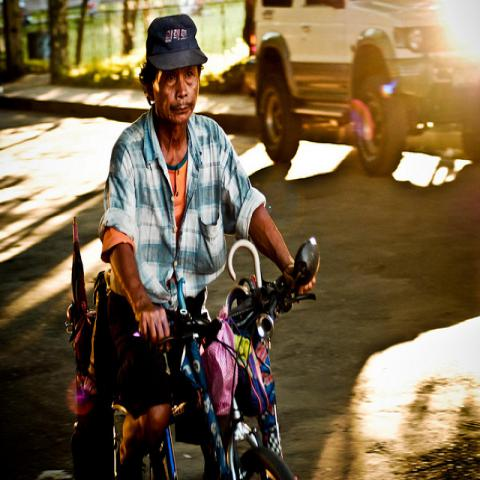car: (254, 4, 480, 169)
motorcycle: (56, 229, 325, 474)
truck: (253, 0, 479, 180)
